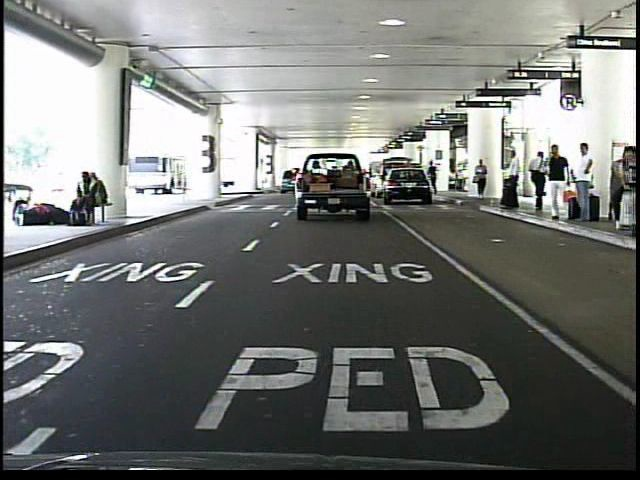person: (542, 142, 573, 226), (572, 137, 599, 231), (499, 148, 525, 213), (527, 145, 551, 214), (473, 159, 490, 203), (428, 161, 440, 199)
